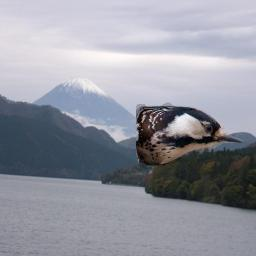Woodpecker: (136, 101, 243, 168)
